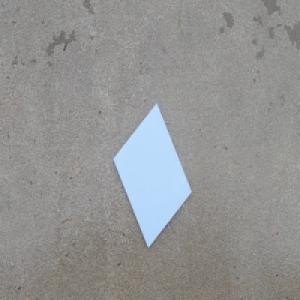PaintChip: (112, 99, 192, 249)
